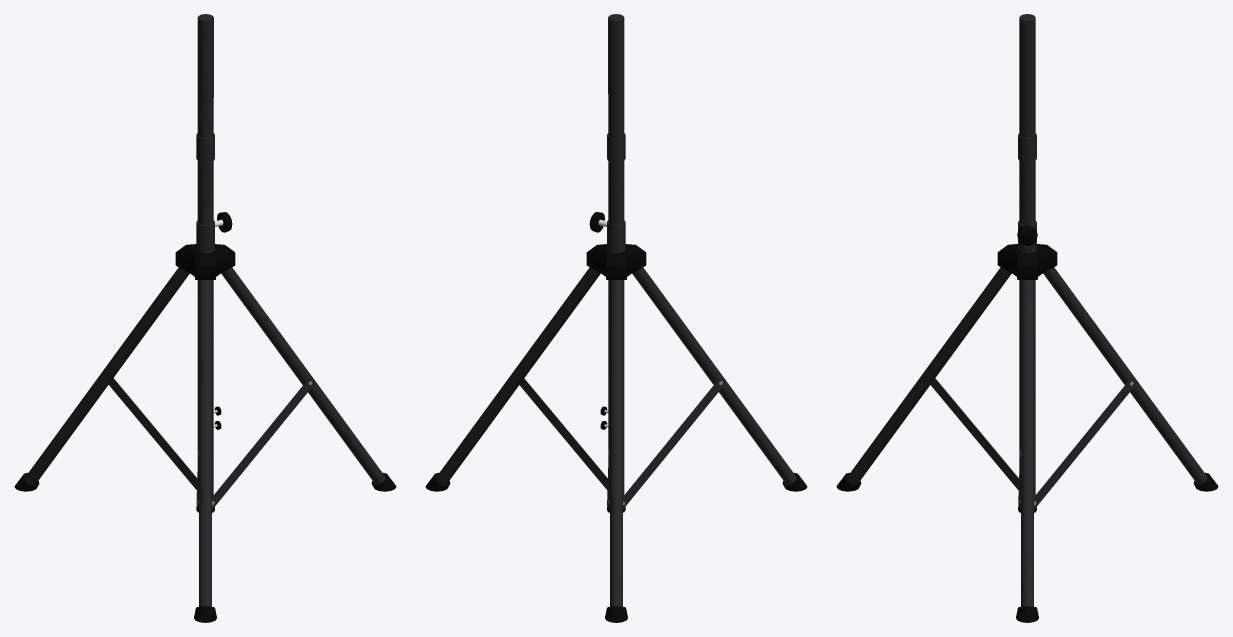
File: SpeakerTripod01.FBX
3 renders of one model, left to right at view 1: azimuth 30°, elevation 25°; view 2: azimuth 150°, elevation 25°; view 3: azimuth 270°, elevation 25°, orthographic.
Visible parts, largest first — view 1: SpeakerTripod01; view 2: SpeakerTripod01; view 3: SpeakerTripod01.
Part boxes in pixels (x1,y1,x2,y2): SpeakerTripod01: (14, 14, 396, 622); SpeakerTripod01: (425, 14, 807, 622); SpeakerTripod01: (836, 14, 1218, 622).
Size of the model in its own units: 93.03 by 158 by 106.
